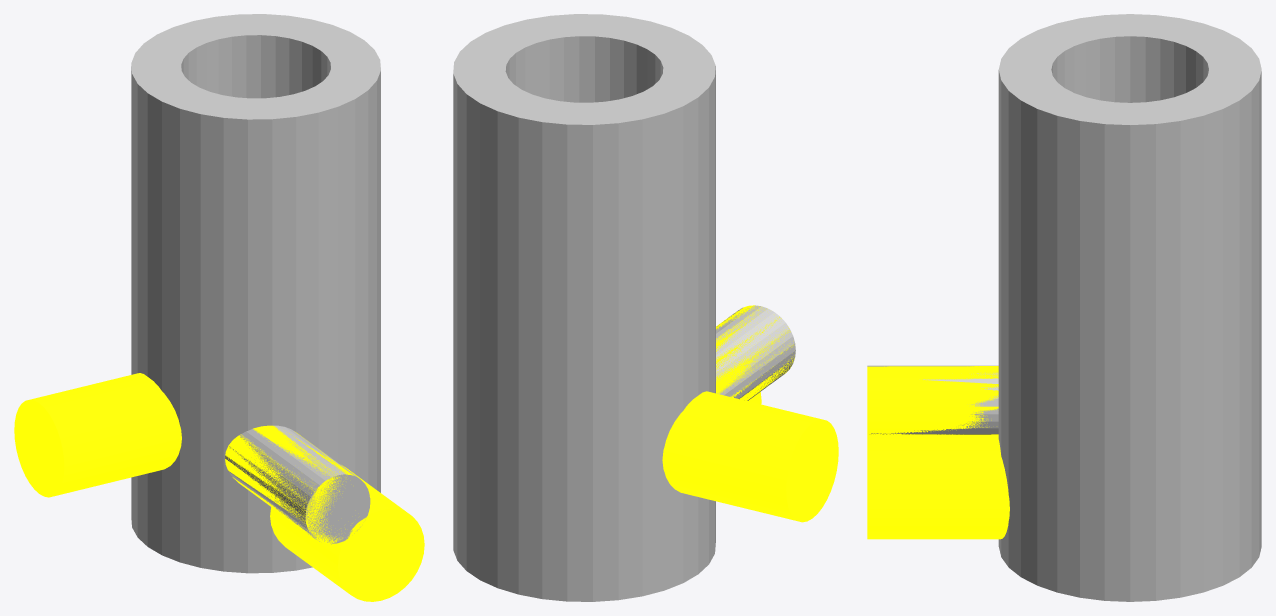
File: LOT130_df4fd470.glb
The picture shows the model from 3 angles, left to right: view 1: azimuth 30°, elevation 25°; view 2: azimuth 150°, elevation 25°; view 3: azimuth 270°, elevation 25°; orthographic projection. The views are drawn at different scales.
Visible parts, largest first — view 1: Cylinder, Cylinder.003, Cylinder.001, Cylinder.005; view 2: Cylinder, Cylinder.003, Cylinder.005; view 3: Cylinder, Cylinder.001, Cylinder.005.
Boxes of the visible parts, x1,y1,x2,y2 form: Cylinder: (131, 14, 380, 573); Cylinder.003: (14, 373, 181, 497); Cylinder.001: (270, 465, 424, 601); Cylinder.005: (225, 425, 369, 543); Cylinder: (453, 14, 795, 601); Cylinder.003: (662, 391, 838, 522); Cylinder.005: (716, 305, 794, 400); Cylinder: (867, 14, 1261, 601); Cylinder.001: (867, 434, 1009, 539); Cylinder.005: (867, 366, 998, 434).
Bounding box in the file's own units: 1.5 × 2 × 1.5.
